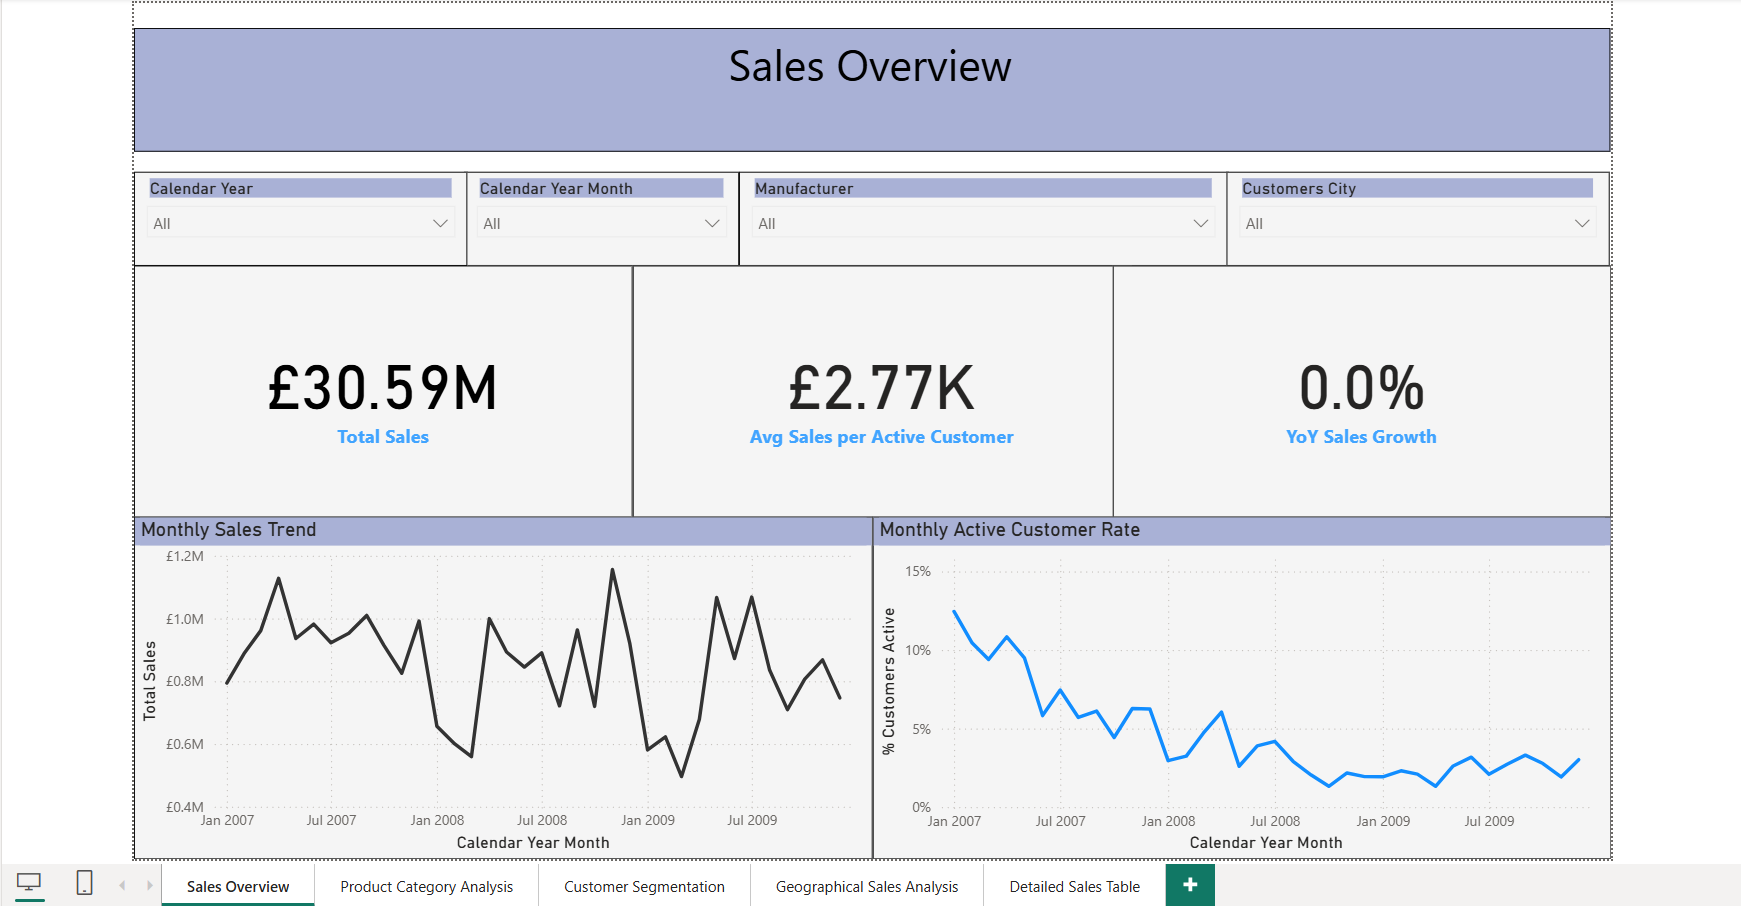

What the dashboard file says about the page in this screenshot:
{"tool":"powerbi","page":{"name":"Sales Overview","canvas":[1280,720],"ordinal":0},"visuals":[{"type":"textbox","box":[0,0,1279.1,107.2],"z":0},{"type":"slicer","fields":{"Values":["Date.Calendar Year Month"]},"box":[285.7,124.1,238.6,81.3],"z":1000},{"type":"slicer","fields":{"Values":["Product.Manufacturer"]},"box":[524.4,124.1,423.8,81.3],"z":2000},{"type":"card","fields":{"Values":["01.Measures.Total Sales"]},"box":[0,205.5,432.3,218.3],"z":3000},{"type":"card","fields":{"Values":["01.Measures.Avg Sales per Active Customer"]},"box":[432.3,205.5,432.3,218.3],"z":4000},{"type":"slicer","fields":{"Values":["Date.Calendar Year"]},"box":[0,124.1,288.9,81.3],"z":5000},{"type":"slicer","fields":{"Values":["Customer.City"]},"box":[947.1,124.1,331.7,81.3],"z":6000},{"type":"card","fields":{"Values":["01.Measures.YoY Sales %"]},"box":[847.6,205.5,432.3,218.3],"z":7000},{"type":"lineChart","title":"Monthly Sales Trend","fields":{"Category":["Date.Calendar Year Month"],"Y":["01.Measures.Total Sales"]},"box":[0,423.8,640,296.4],"z":8000},{"type":"lineChart","title":"Monthly Active Customer Rate","fields":{"Category":["Date.Calendar Year Month"],"Y":["01.Measures.% Customers Active"]},"box":[640.1,423.5,640.1,296.8],"z":9000}]}

Visuals, with their boxes on the page's 1280x720 design canvas (x1, y1, x2, y2). These are canvas units, not pixel positions in the 1741x906 screenshot, which may show the page scaled, cropped or inside an application window:
textbox: {"left": 0, "top": 0, "right": 1279, "bottom": 107}
slicer - Date.Calendar Year Month: {"left": 286, "top": 124, "right": 524, "bottom": 205}
slicer - Product.Manufacturer: {"left": 524, "top": 124, "right": 948, "bottom": 205}
card - 01.Measures.Total Sales: {"left": 0, "top": 206, "right": 432, "bottom": 424}
card - 01.Measures.Avg Sales per Active Customer: {"left": 432, "top": 206, "right": 865, "bottom": 424}
slicer - Date.Calendar Year: {"left": 0, "top": 124, "right": 289, "bottom": 205}
slicer - Customer.City: {"left": 947, "top": 124, "right": 1279, "bottom": 205}
card - 01.Measures.YoY Sales %: {"left": 848, "top": 206, "right": 1280, "bottom": 424}
"Monthly Sales Trend" lineChart: {"left": 0, "top": 424, "right": 640, "bottom": 720}
"Monthly Active Customer Rate" lineChart: {"left": 640, "top": 424, "right": 1280, "bottom": 720}
